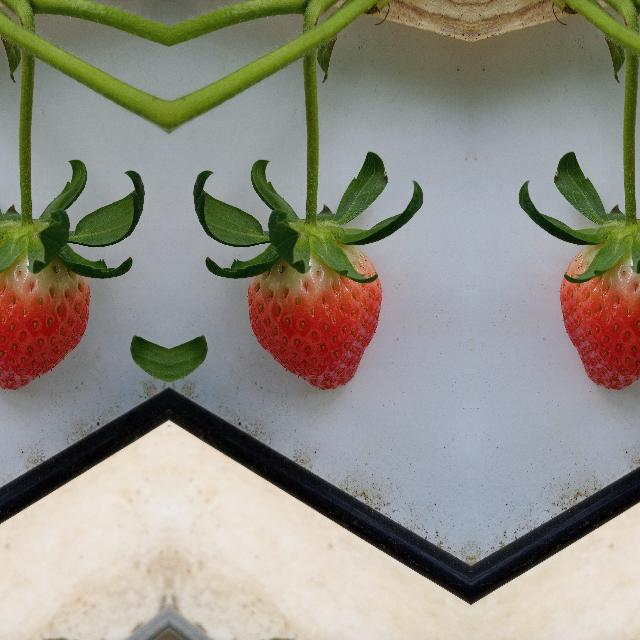Health_100: (245, 244, 383, 392), (0, 243, 91, 392), (558, 243, 640, 392)
